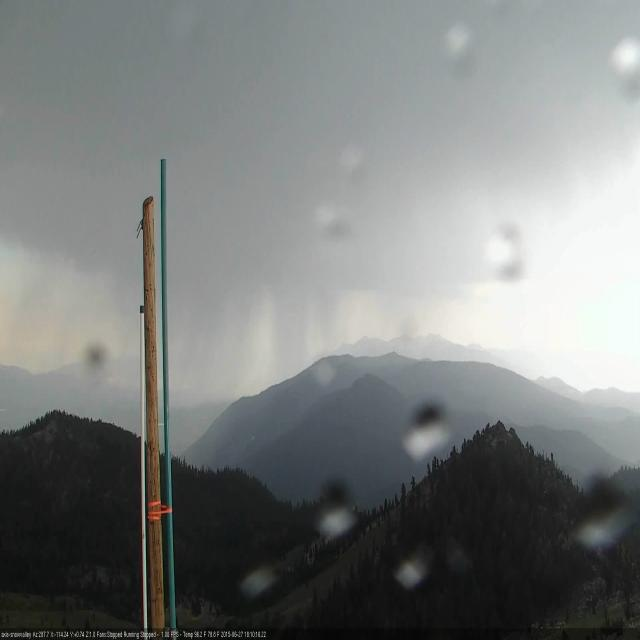smoke: (250, 435, 255, 442)
